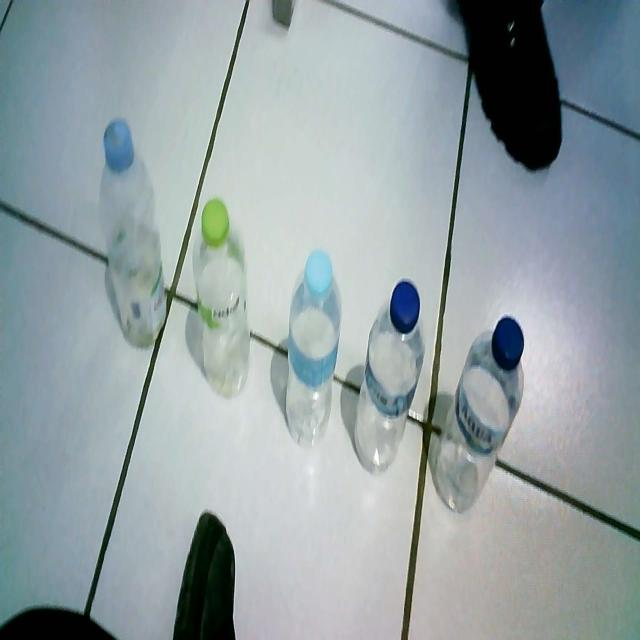botol: (88, 89, 184, 372), (439, 304, 534, 573), (181, 165, 262, 440), (354, 276, 432, 516), (275, 240, 348, 495)
